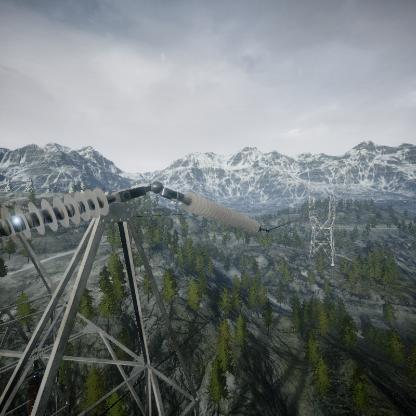insulator: (1, 185, 115, 239), (177, 187, 262, 235)
tower: (307, 187, 338, 269)
